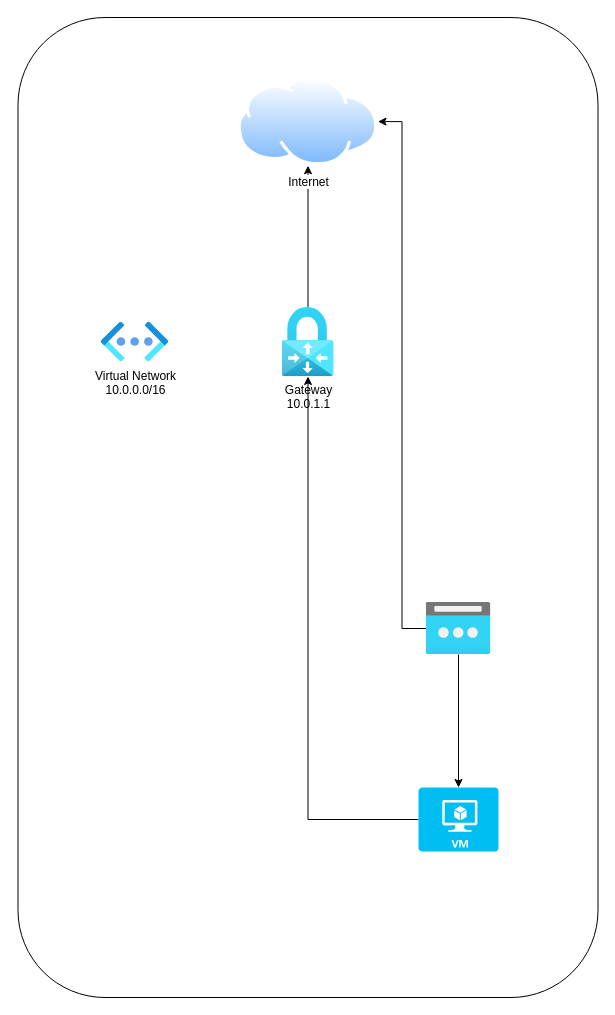
Image size: 615x1015. Some labels were removed from this diagram. Each missing label, with the centre of its shape:
LinuxWorkstation 10.0.1.4 Port 22 Open: the point at 458,819
Public IP x.x.x.x: the point at 458,628
